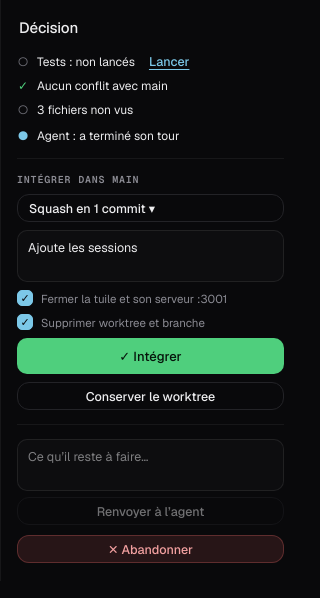
Test: DecisionColumn, integrating (FR-019, FR-024, FR-025) › refuses an empty message
This screenshot has width=320, height=598.
Clear the text box named "Message du commit" at (150, 256), box [17, 230, 284, 282]
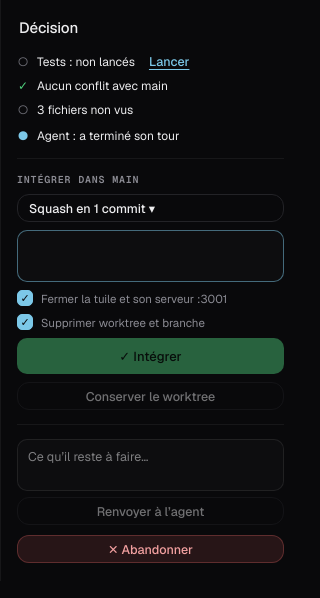
Expected: the button "✓ Intégrer" is disabled, [17, 338, 284, 374]
